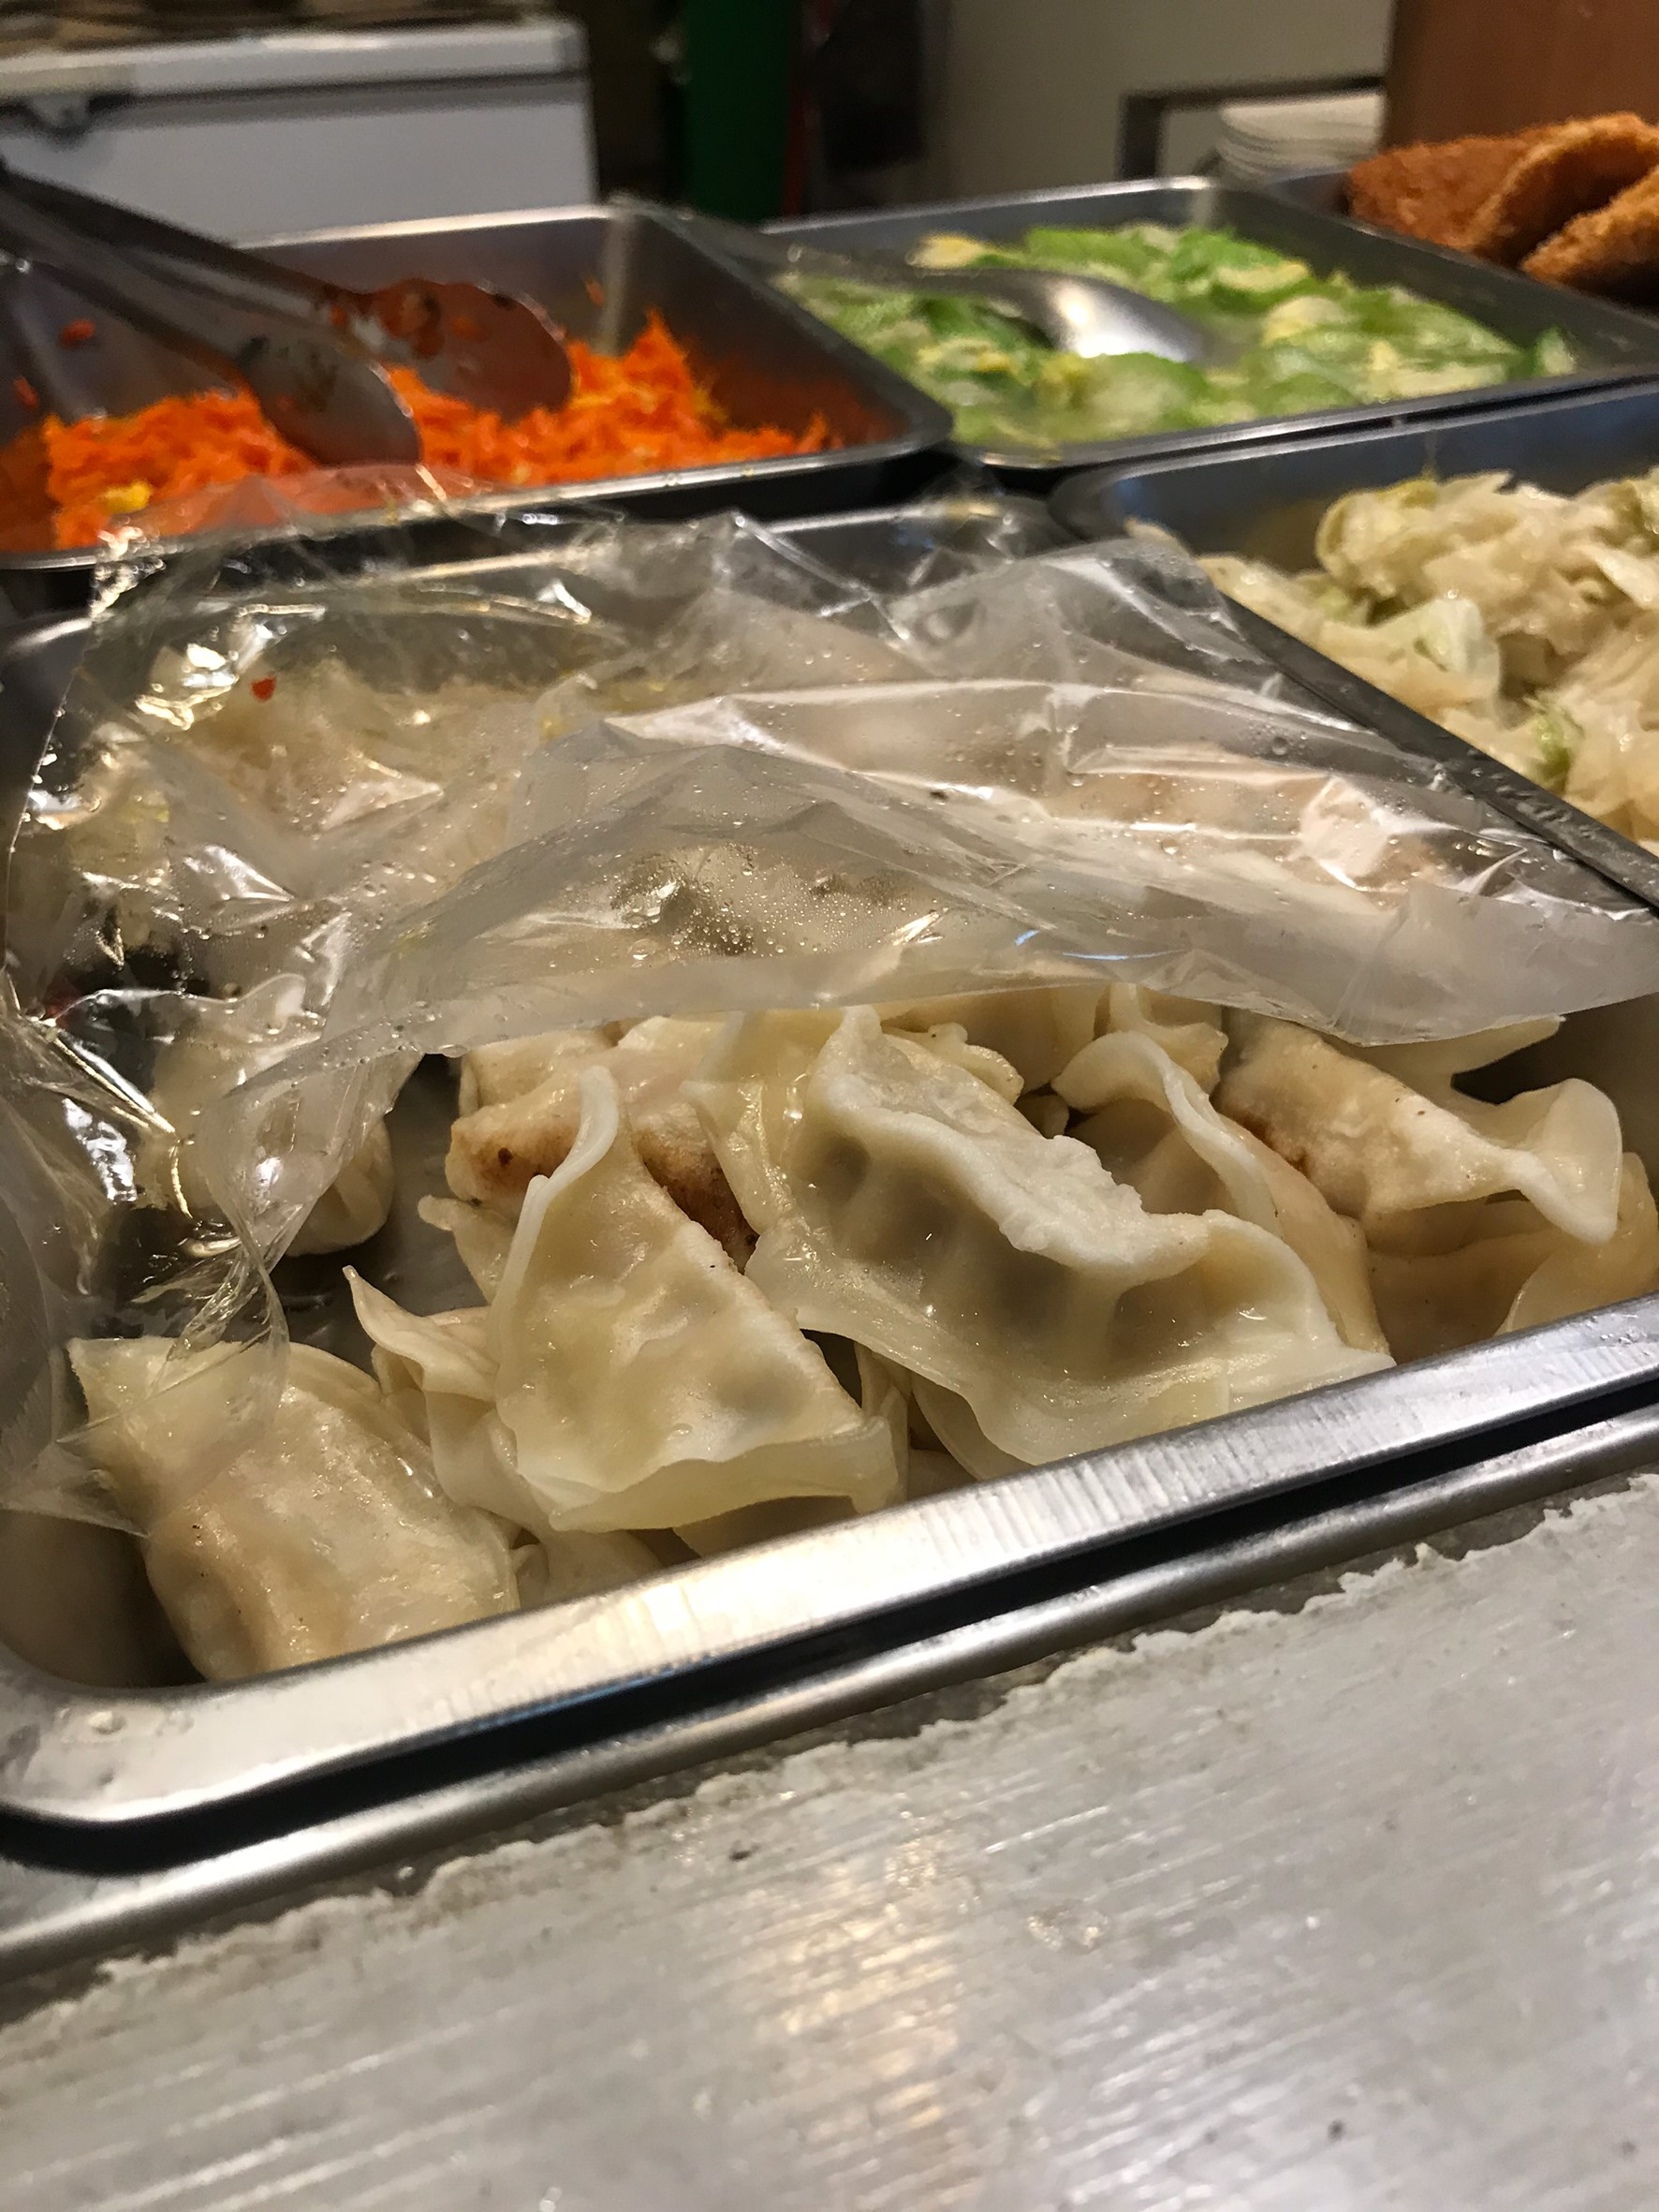fried_dumplings: (213, 1014, 1607, 1623)
